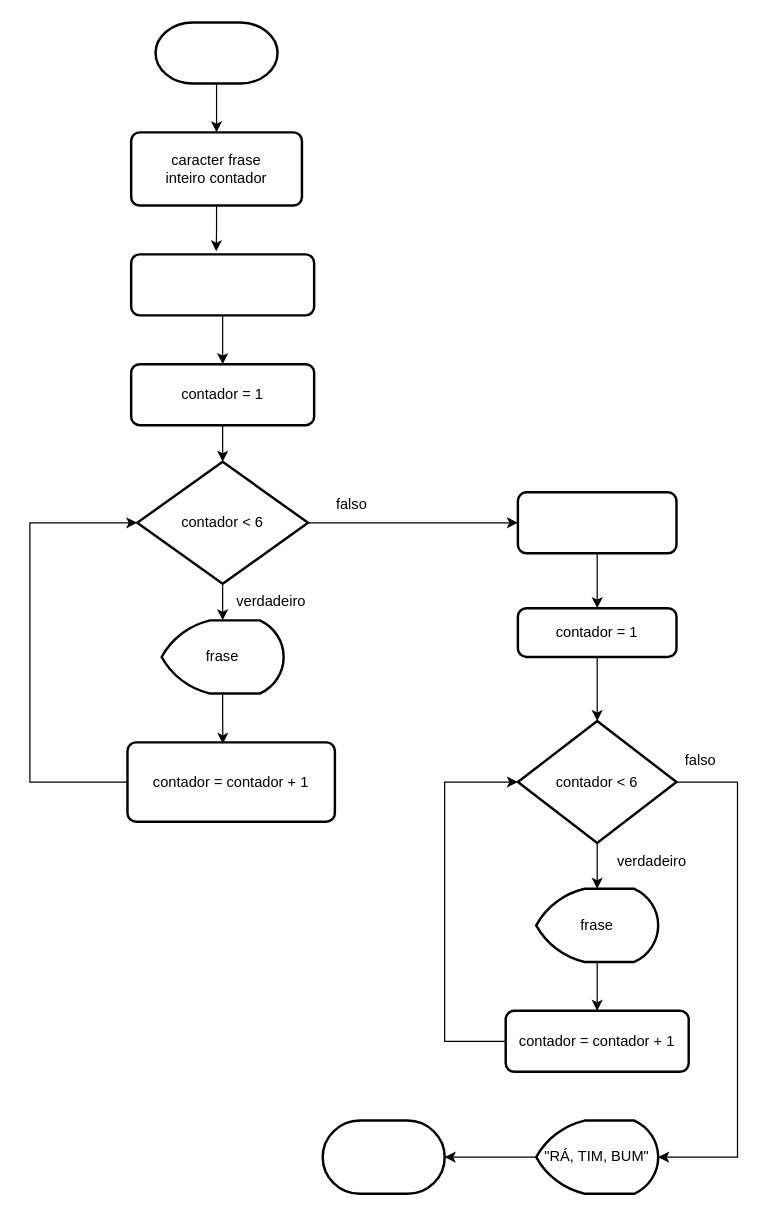
Image size: 769x1215. Some labels were removed from this diagram. The shapes that lost their labels are listed below. From the top down, each one's centre as x and y in pixels, then its label:
point (216, 52): inicio
point (222, 284): frase = "É PIQUE"
point (596, 522): frase = "É HORA"
point (383, 1156): fim
